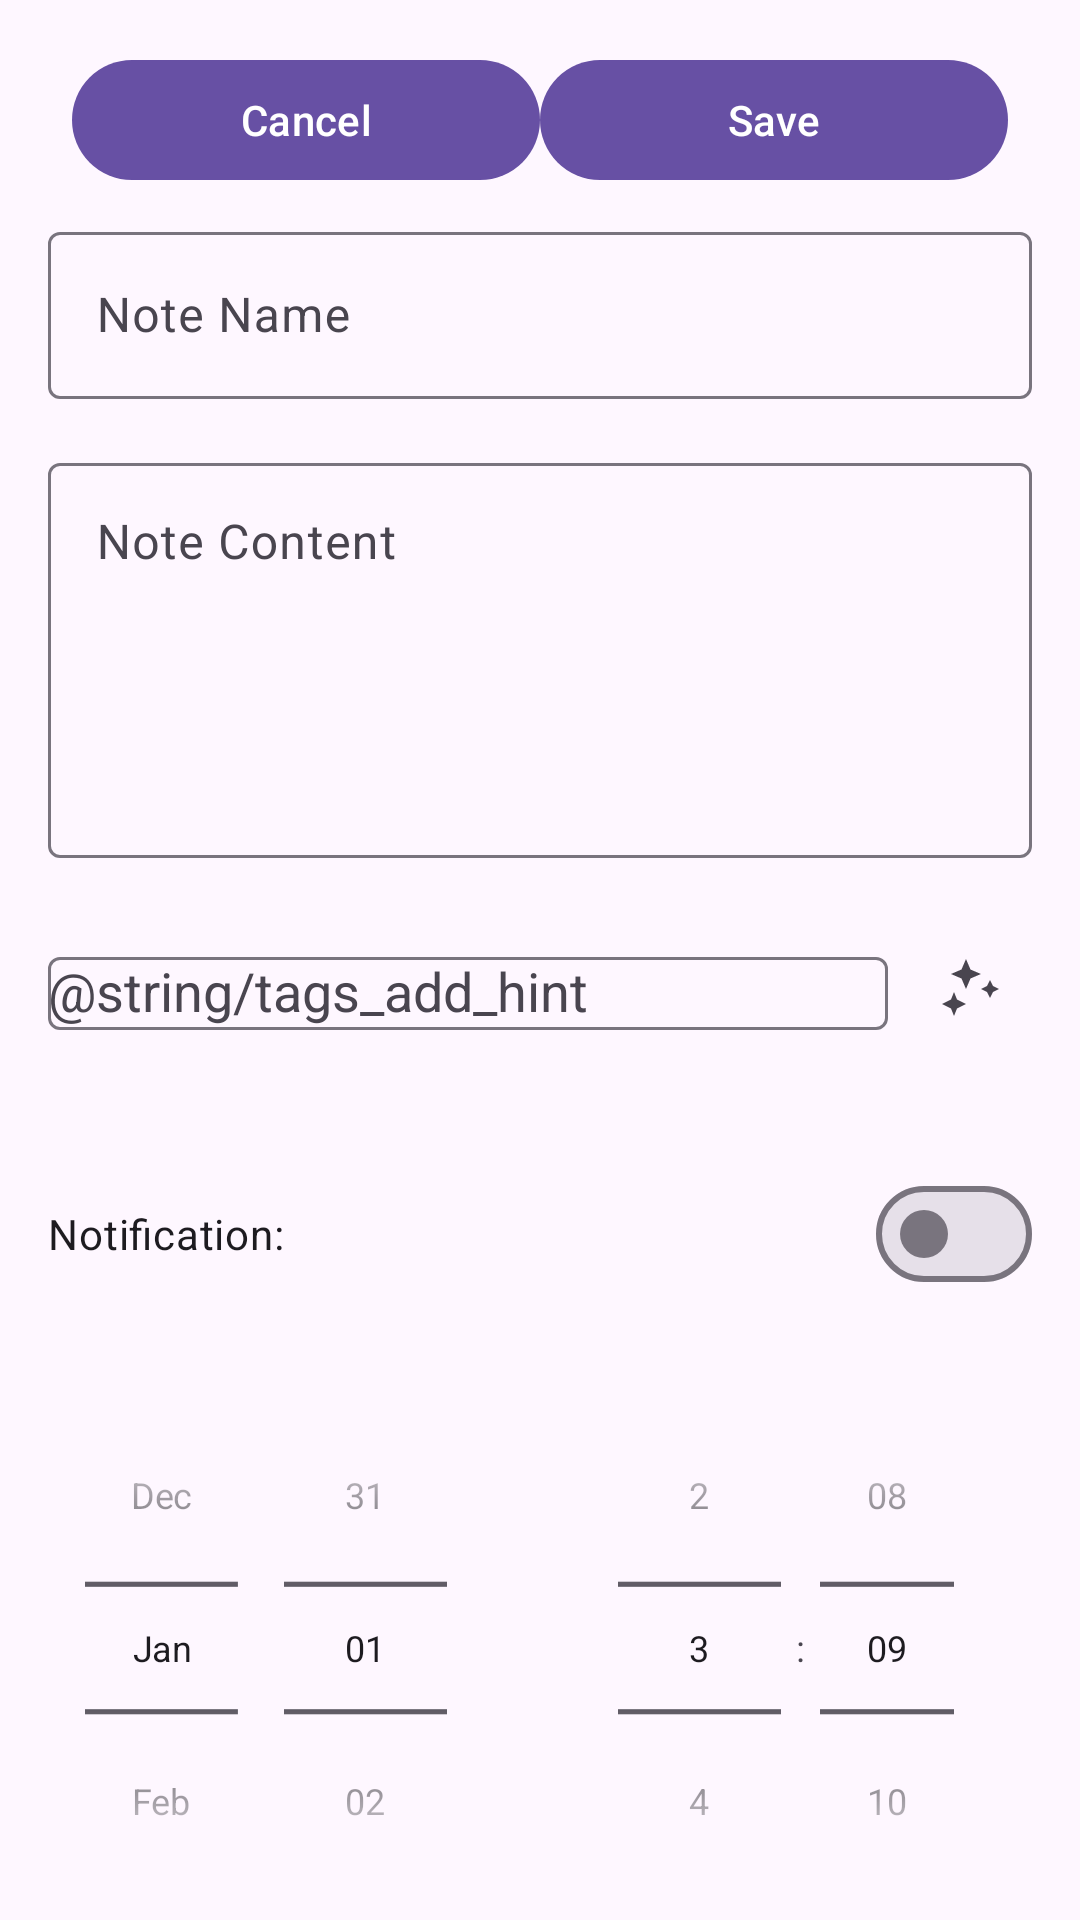

Where to tap for icons on this 1080×1920 app screen, as [x,y]:
AI suggest tags: [970,987]
